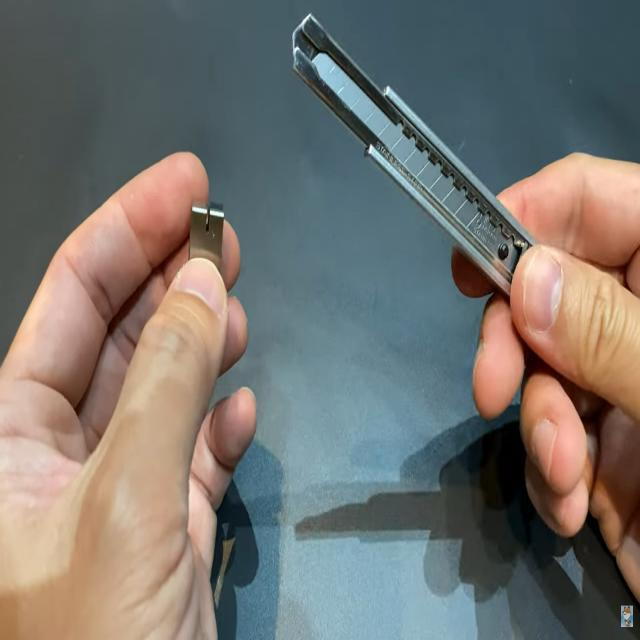cutter: (280, 0, 640, 557)
